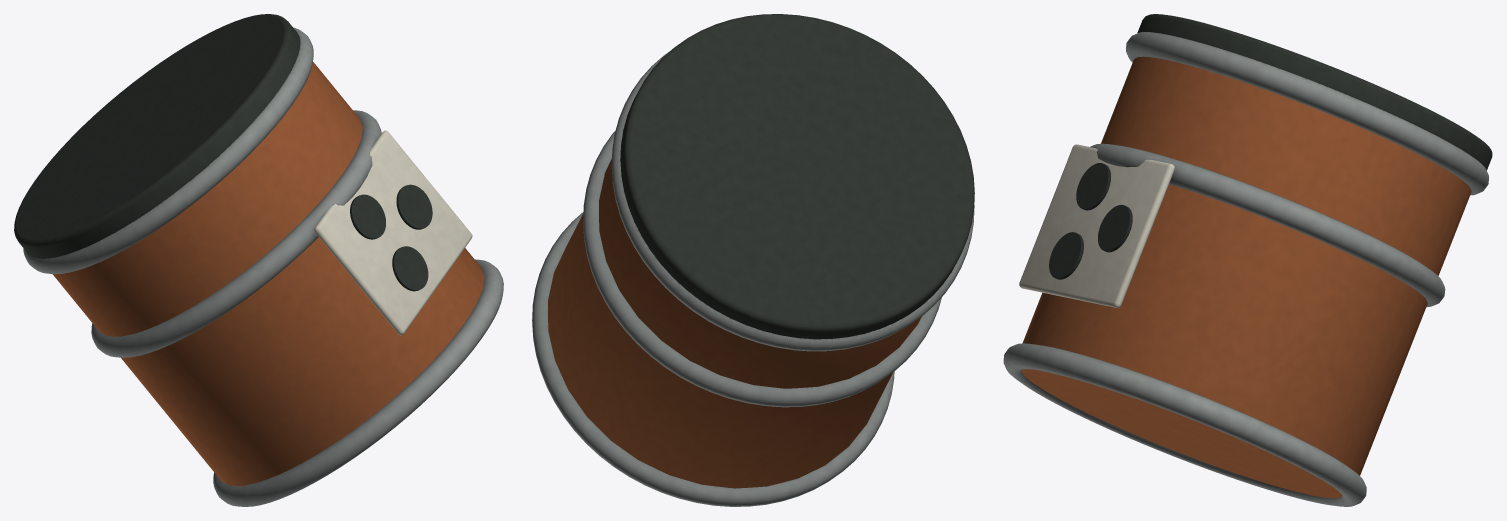
3 renders of one model, left to right at view 1: azimuth 30°, elevation 25°; view 2: azimuth 150°, elevation 25°; view 3: azimuth 270°, elevation 25°, orthographic. The views are drawn at different scales.
Visible parts, largest first — view 1: Waste containment drum; view 2: Waste containment drum; view 3: Waste containment drum.
Part boxes in pixels (bbox=[...]): Waste containment drum: bbox=[14, 14, 503, 506]; Waste containment drum: bbox=[532, 14, 974, 506]; Waste containment drum: bbox=[1003, 14, 1492, 506].
Bounding box in the file's own units: 1.19 × 1.22 × 1.13.
1 material, 1 textured.
